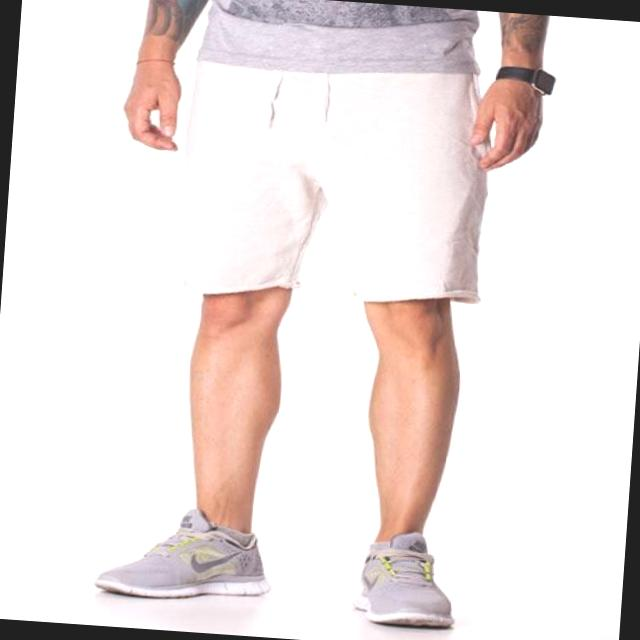short: (173, 12, 498, 310)
